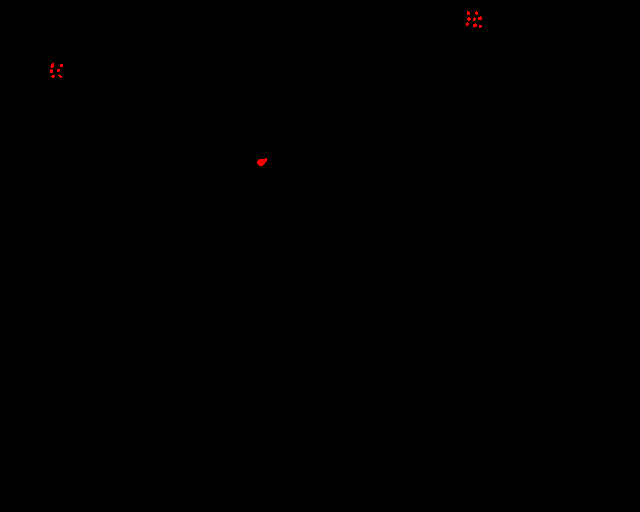Target: (257, 158, 267, 166), (50, 63, 54, 68), (478, 16, 482, 20), (467, 17, 471, 21), (473, 23, 477, 27), (467, 11, 470, 15), (475, 11, 478, 15), (473, 17, 476, 21), (466, 22, 469, 26), (50, 69, 53, 73), (51, 75, 55, 78), (58, 75, 62, 78), (479, 25, 482, 28), (60, 64, 63, 67), (57, 69, 60, 72)
